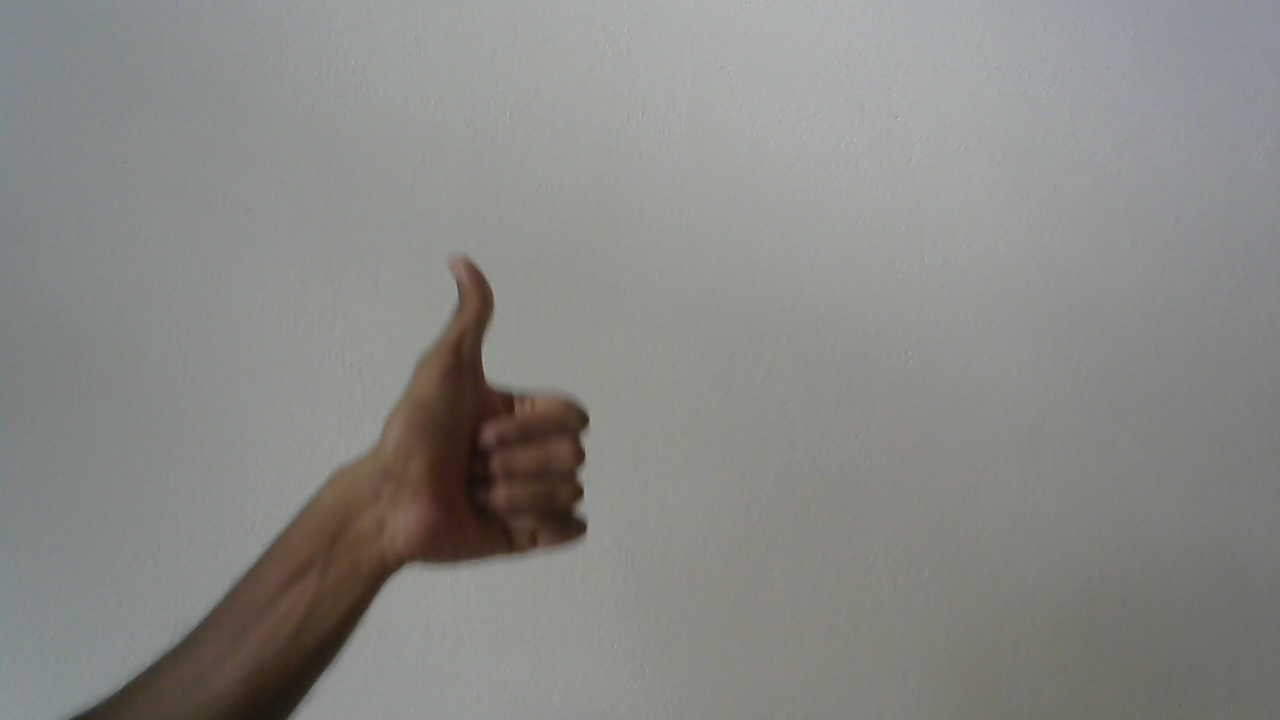thumbsup: (375, 241, 610, 593)
